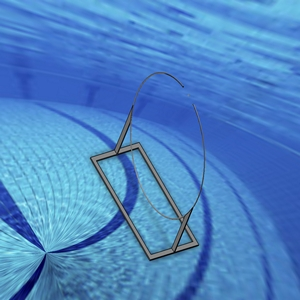circle: (89, 70, 209, 262)
